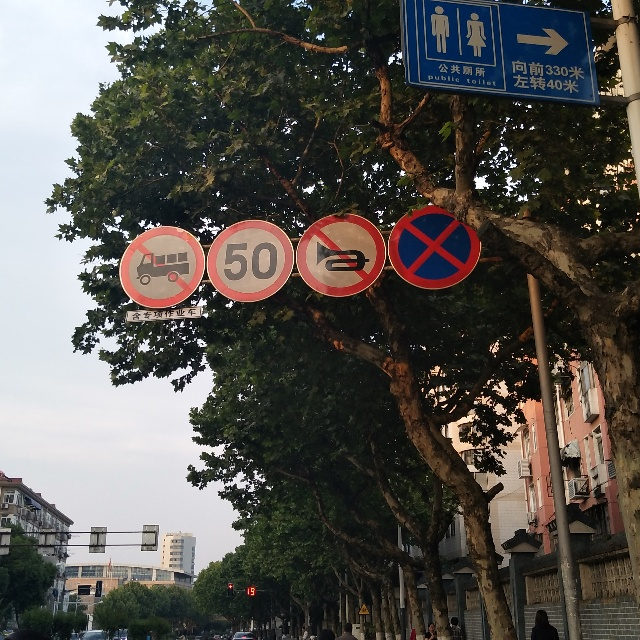nohonk: (296, 213, 386, 296)
stop: (388, 205, 482, 289)
